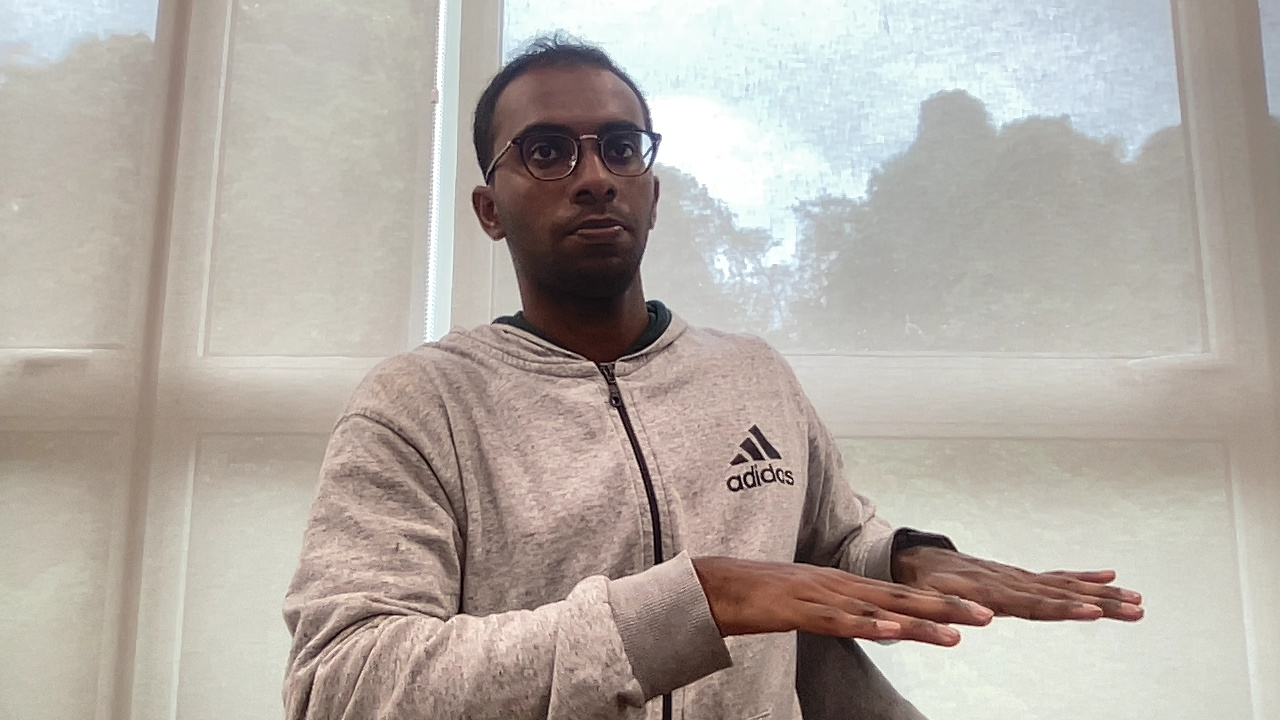finish: (712, 531, 1154, 654)
